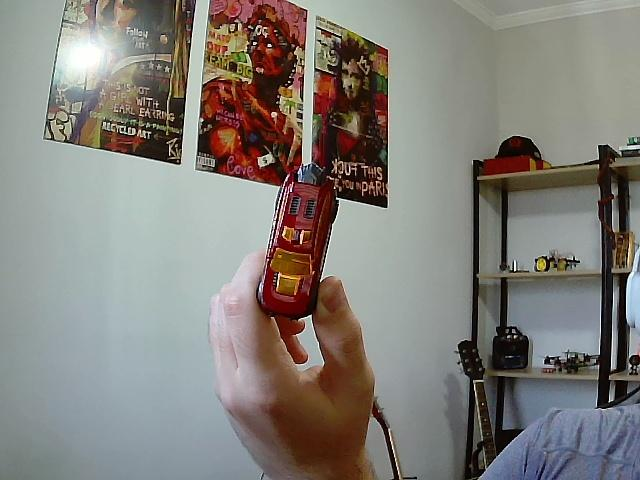Carro: (258, 165, 337, 322)
